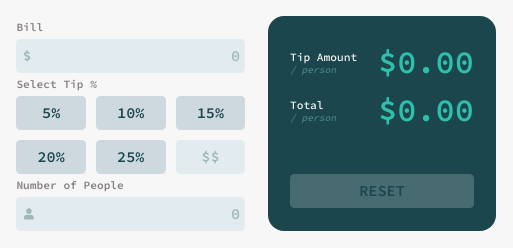
Test case: Reset button click
The image size is (513, 248).
Step 1. Type "23" into the field labelled "Number of People" → (131, 214), box [16,196,245,231]
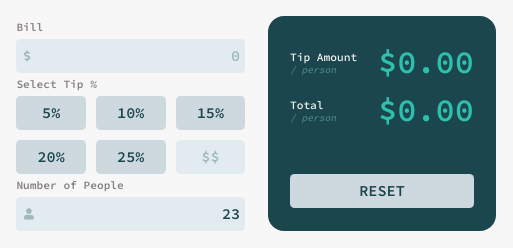
Step 2. Type "23" into the field labelled "Bill" → (131, 56), box [16,39,245,73]
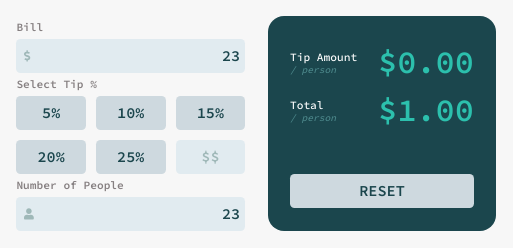
Step 3. Type "23" into the field with test id "custom-tip" → (210, 157), box [176,140,245,174]
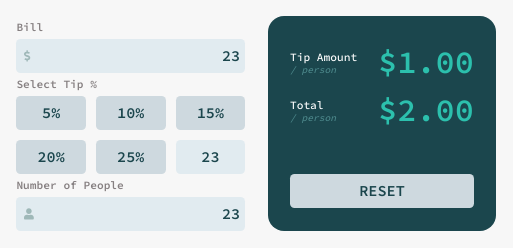
Check: the button "RESET" is enabled
Check: the text with test id "subtotal-amount-bill" no longer shows "$0.00"
Check: the text with test id "subtotal-amount-tip" no longer shows "$0.00"
Step 4. Click the button "RESET" → (382, 191), box [290,174,474,208]
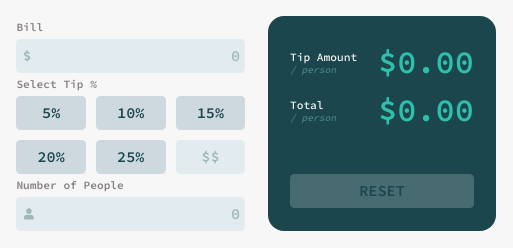
Check: the field labelled "Bill" is empty, box [16,39,245,73]
Check: the field labelled "Number of People" is empty, box [16,196,245,231]
Check: the field with test id "custom-tip" is empty, box [176,140,245,174]
